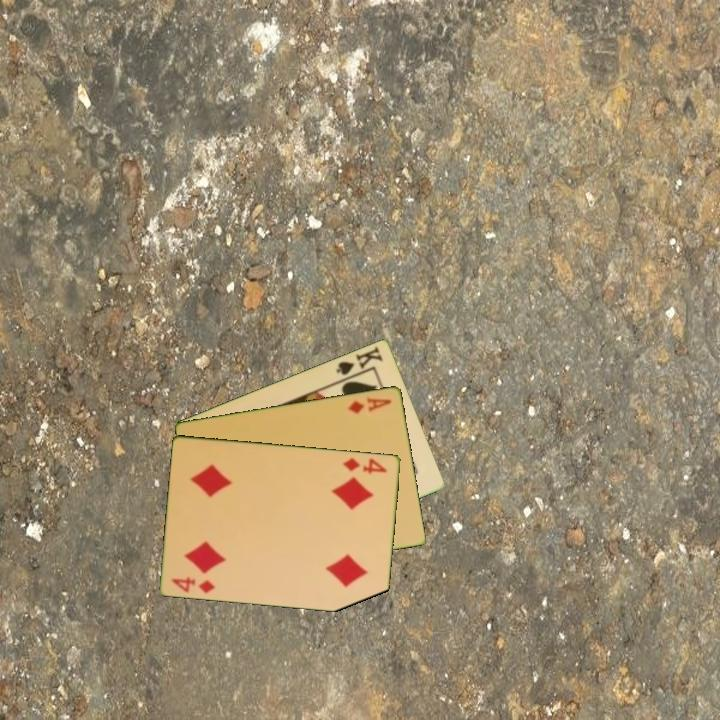4d: (168, 573, 218, 596), (340, 454, 391, 476)
Ad: (345, 393, 395, 416)
Ks: (333, 342, 386, 378)
